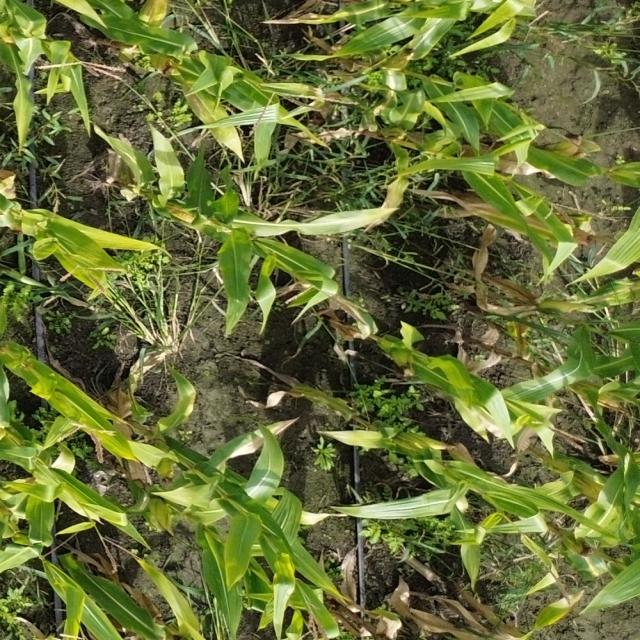northern-leaf-blight: (188, 91, 220, 122), (234, 434, 272, 456)
